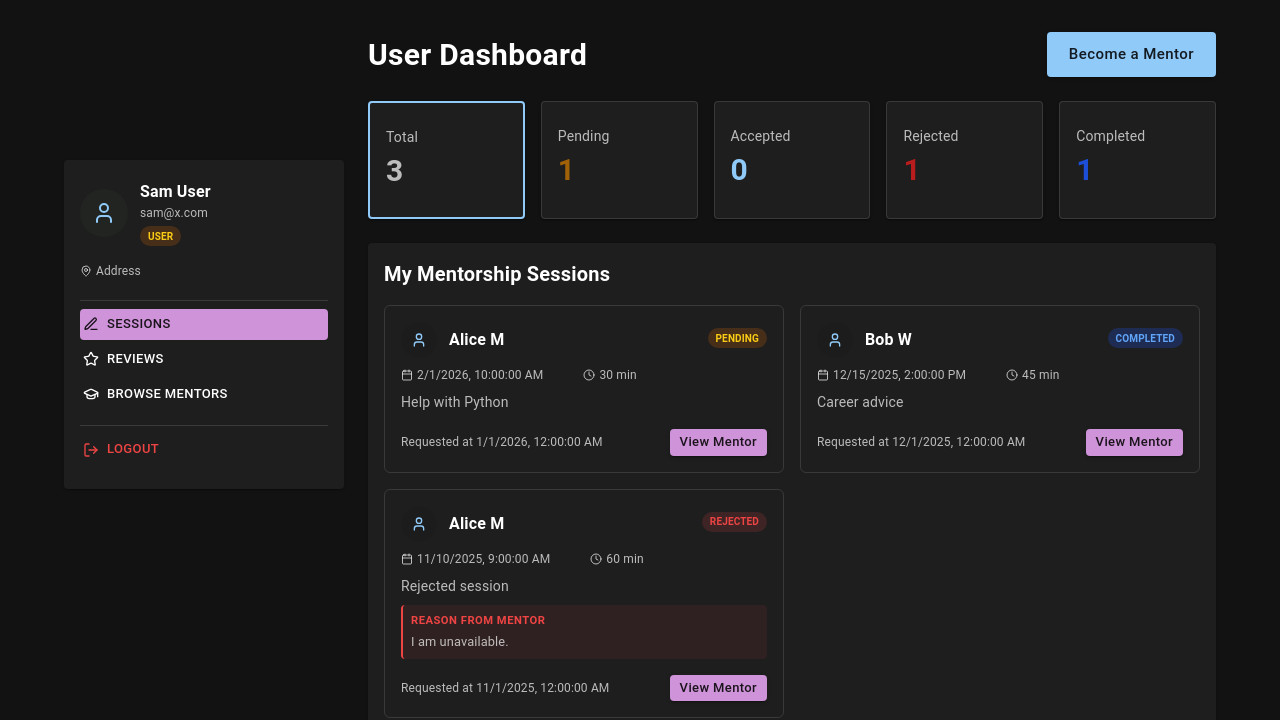
Test: UserDashboardPage › switches to reviews tab and shows only user's reviews
Expected: the text "Sam User" is shown, [140,180,211,204]
Click the button "Reviews" at (204, 359), box [80,344,328,375]
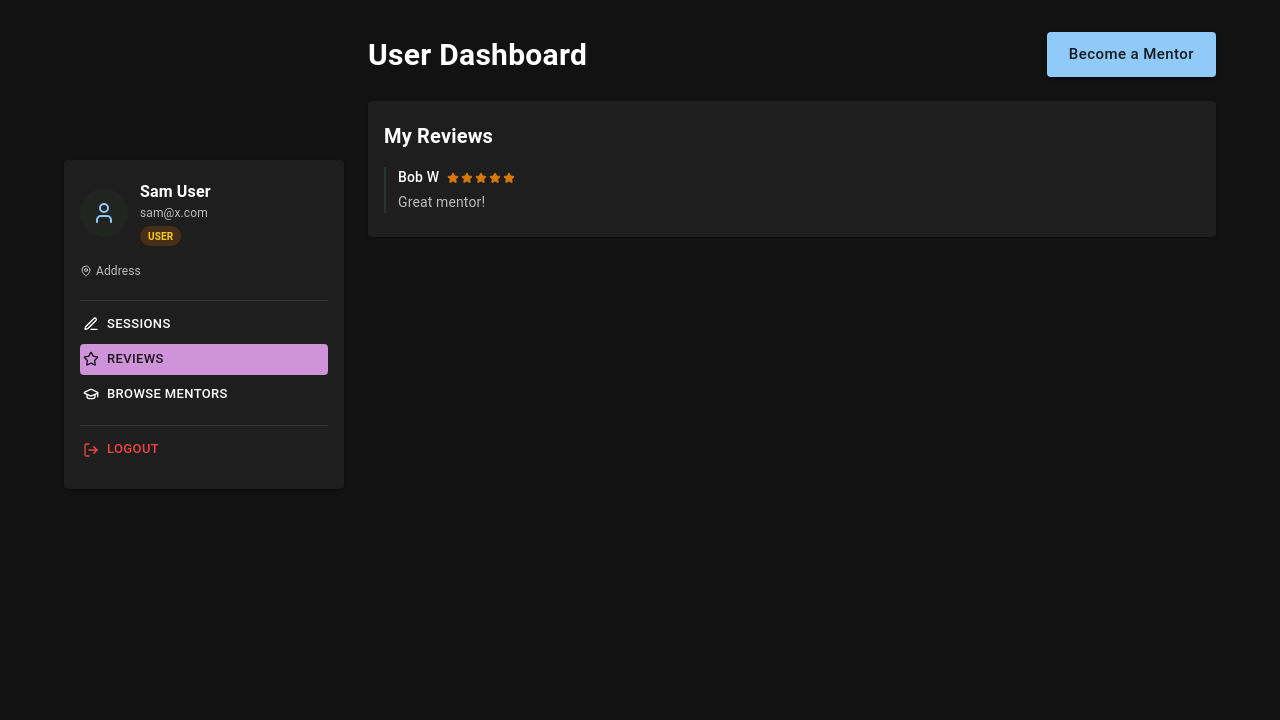
Now the text "Great mentor!" is shown, box [398,194,485,210]
